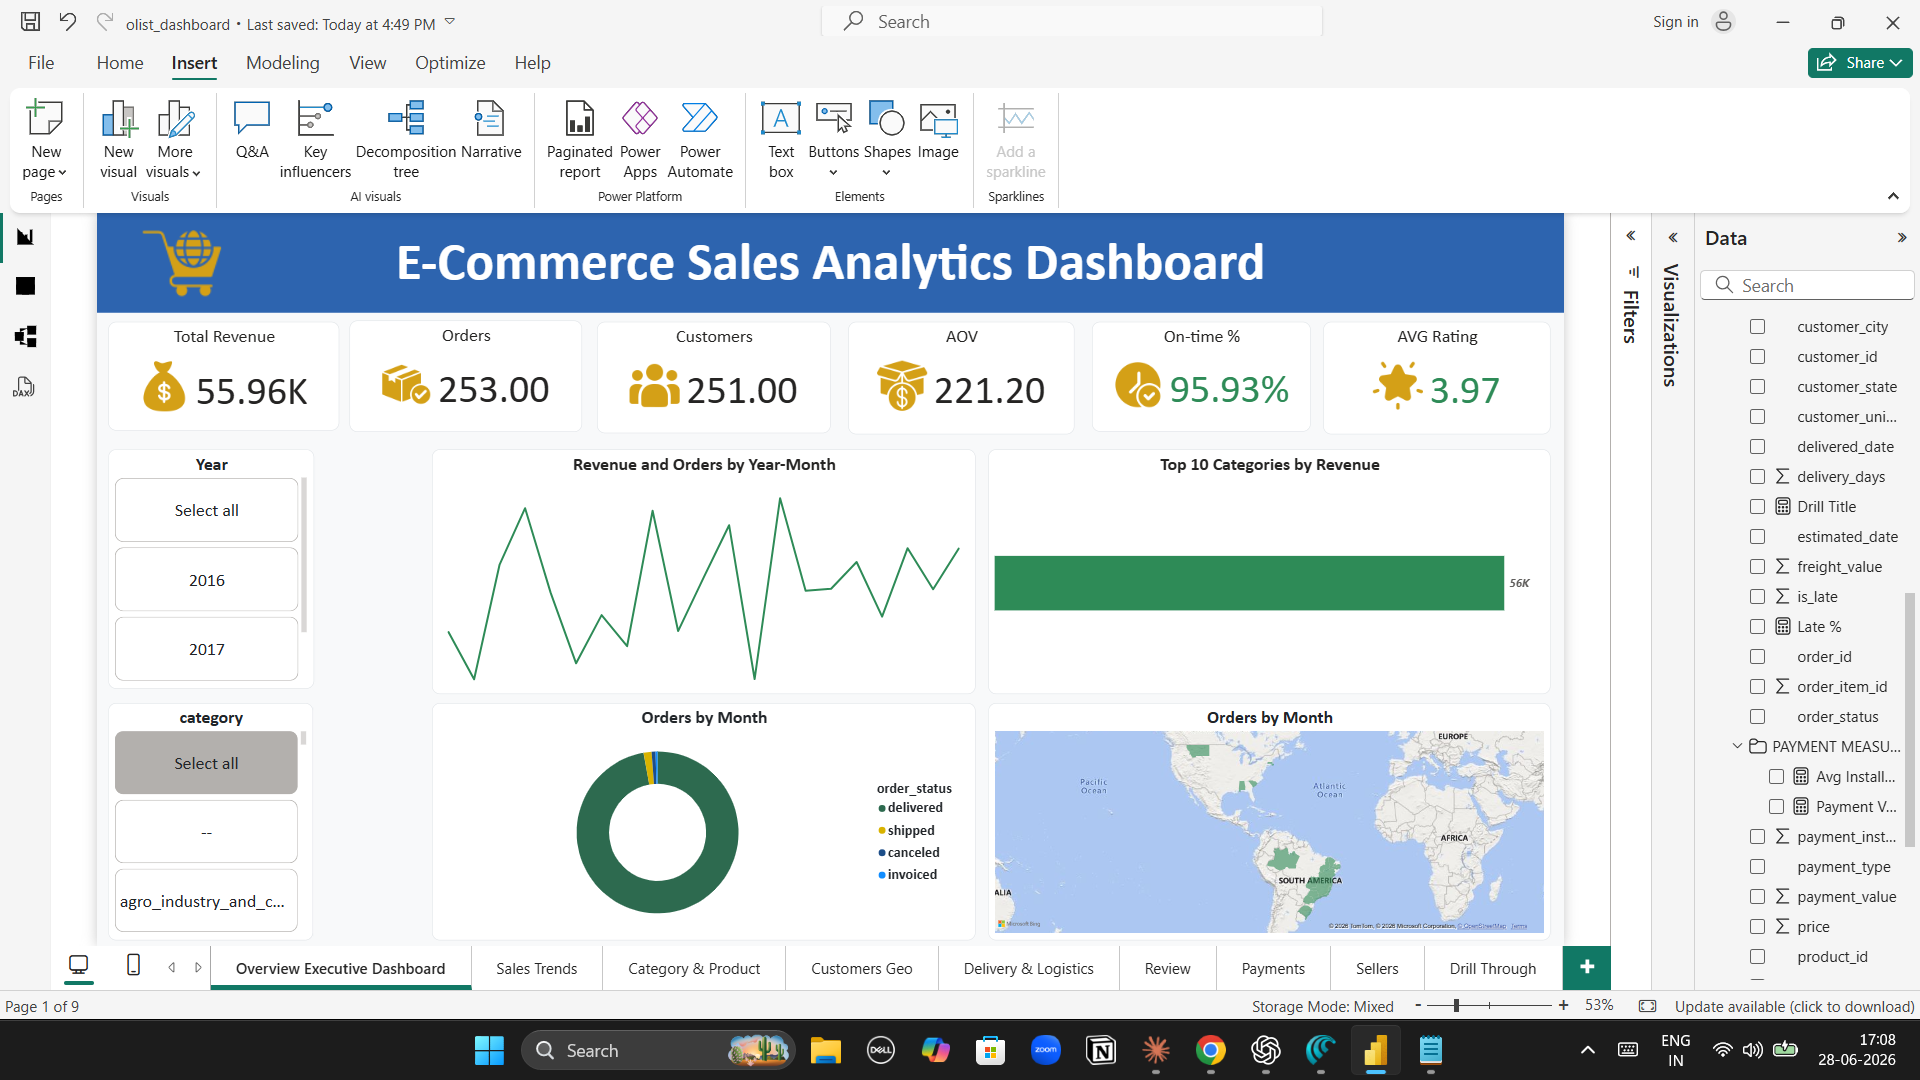

The page's visual inventory and layout, read from the dashboard file:
{"tool":"powerbi","page":{"name":"Overview Executive Dashboard","canvas":[2200,1100],"ordinal":0},"visuals":[{"type":"cardVisual","title":"Total Revenue","fields":{"Data":["public bi_fact_sales.Revenue"]},"box":[16.9,163.1,346.8,163.1],"z":0},{"type":"cardVisual","title":"Orders","fields":{"Data":["public bi_fact_sales.Orders"]},"box":[378.7,161.2,348.7,166.8],"z":1000},{"type":"cardVisual","title":"Customers","fields":{"Data":["public bi_fact_sales.Customers"]},"box":[749.8,163.1,350.5,166.8],"z":2000},{"type":"cardVisual","title":"AOV ","fields":{"Data":["public bi_fact_sales.AOV"]},"box":[1126.6,163.1,339.3,168.7],"z":3000},{"type":"cardVisual","title":"On-time %","fields":{"Data":["public bi_fact_sales.On-time %"]},"box":[1492.2,163.1,328.1,165],"z":4000},{"type":"cardVisual","title":"AVG Rating","fields":{"Data":["public bi_fact_sales.AVG Rating"]},"box":[1839,163.1,341.2,168.7],"z":5000},{"type":"lineChart","fields":{"Category":["DimDate.Year-Month"],"Y":["public bi_fact_sales.Revenue"]},"box":[502.4,354.3,815.4,367.4],"z":6000},{"type":"donutChart","title":"Orders by Month","fields":{"Category":["public bi_fact_sales.order_status"],"Y":["public bi_fact_sales.Orders"]},"box":[502.4,734.8,815.4,356.2],"z":7000},{"type":"clusteredBarChart","title":"Top 10 Categories by Revenue","fields":{"Category":["public bi_fact_sales.category"],"Y":["public bi_fact_sales.Revenue"]},"box":[1336.6,354.3,843.6,367.4],"z":8000},{"type":"filledMap","title":"Orders by Month","fields":{"Category":["public bi_fact_sales.customer_state"]},"box":[1336.6,734.8,843.6,356.2],"z":9000},{"type":"advancedSlicerVisual","fields":{"Values":["DimDate.Year"]},"box":[16.2,353.9,308.9,359.2],"z":10000},{"type":"advancedSlicerVisual","fields":{"Values":["public bi_fact_sales.category"]},"box":[16.2,734.7,307.2,355.7],"z":11000},{"type":"textbox","box":[0,0,2200.8,150],"z":12000},{"type":"image","box":[63.7,9.4,127.5,131.2],"z":13000}]}

Visuals, with their boxes on the page's 2200x1100 design canvas (x1, y1, x2, y2). These are canvas units, not pixel positions in the 1920x1080 screenshot, which may show the page scaled, cropped or inside an application window:
"Total Revenue" cardVisual: crop(17, 163, 364, 326)
"Orders" cardVisual: crop(379, 161, 727, 328)
"Customers" cardVisual: crop(750, 163, 1100, 330)
"AOV " cardVisual: crop(1127, 163, 1466, 332)
"On-time %" cardVisual: crop(1492, 163, 1820, 328)
"AVG Rating" cardVisual: crop(1839, 163, 2180, 332)
lineChart - DimDate.Year-Month x public bi_fact_sales.Revenue: crop(502, 354, 1318, 722)
"Orders by Month" donutChart: crop(502, 735, 1318, 1091)
"Top 10 Categories by Revenue" clusteredBarChart: crop(1337, 354, 2180, 722)
"Orders by Month" filledMap: crop(1337, 735, 2180, 1091)
advancedSlicerVisual - DimDate.Year: crop(16, 354, 325, 713)
advancedSlicerVisual - public bi_fact_sales.category: crop(16, 735, 323, 1090)
textbox: crop(0, 0, 2201, 150)
image: crop(64, 9, 191, 141)
